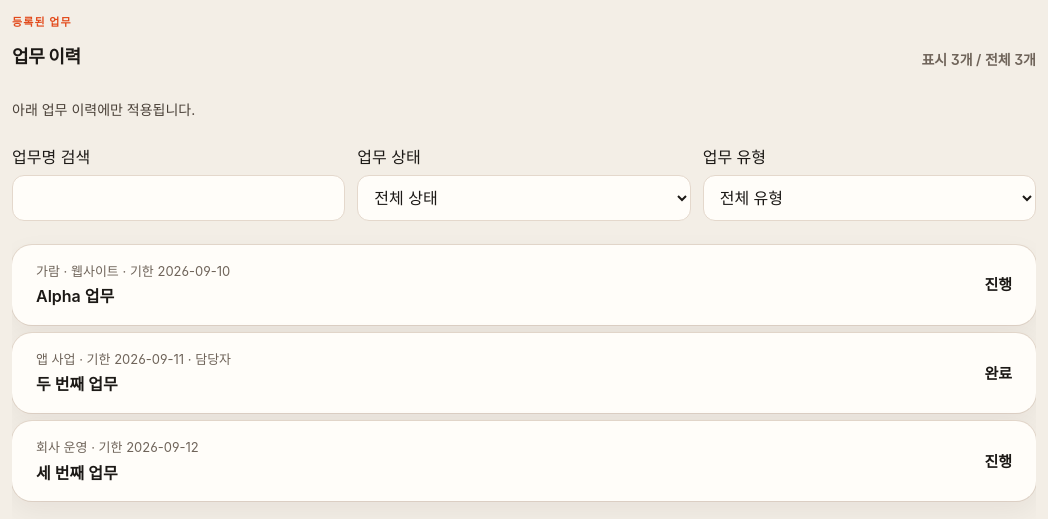
Test case: TaskList › resets all filters
Step 1. Type "없는" into the search field labelled "업무명 검색" → point(179, 198), box [12,175,345,221]
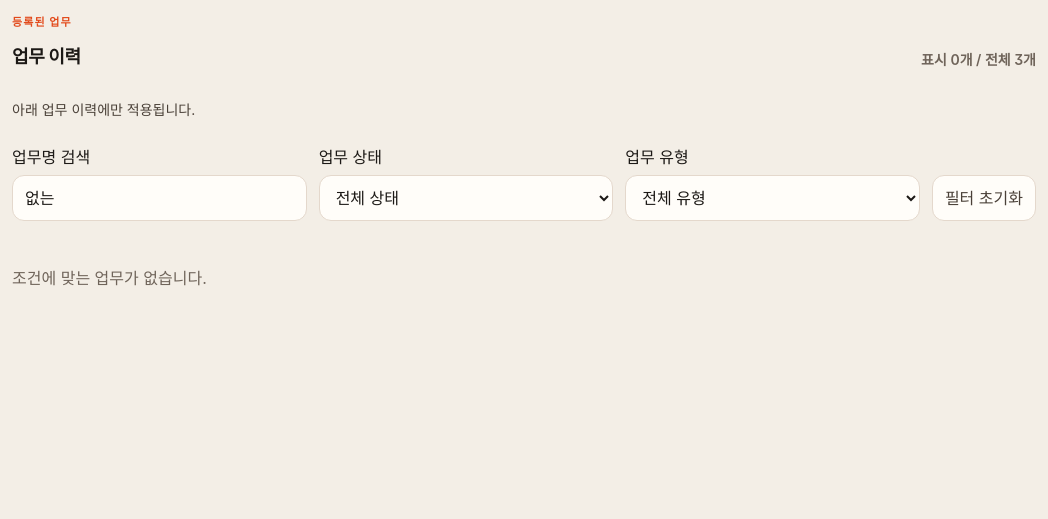
Step 2. Select "완료" in the dropdown labelled "업무 상태" → point(466, 198), box [319,175,613,221]
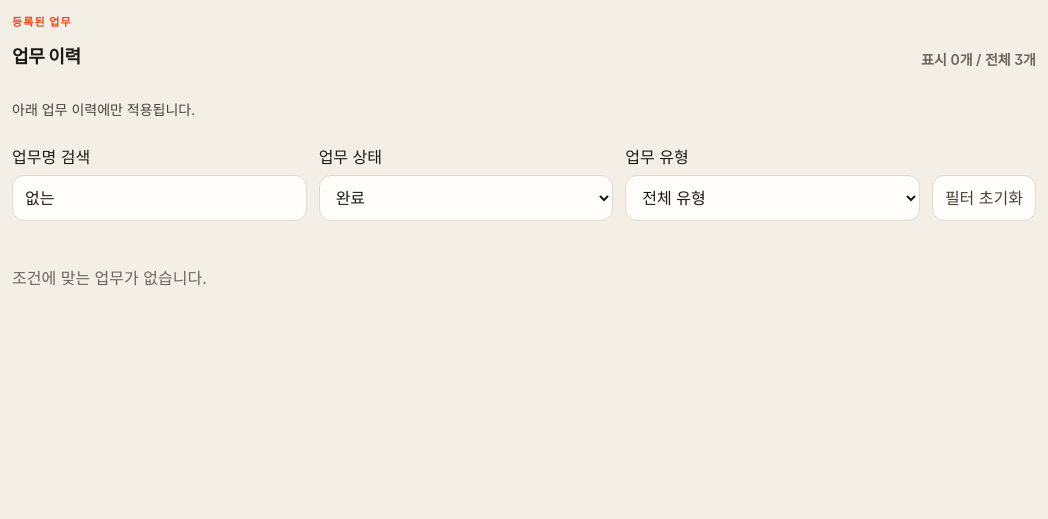
Step 3. Select "자체 사업" in the dropdown labelled "업무 유형" → point(773, 198), box [625,175,920,221]
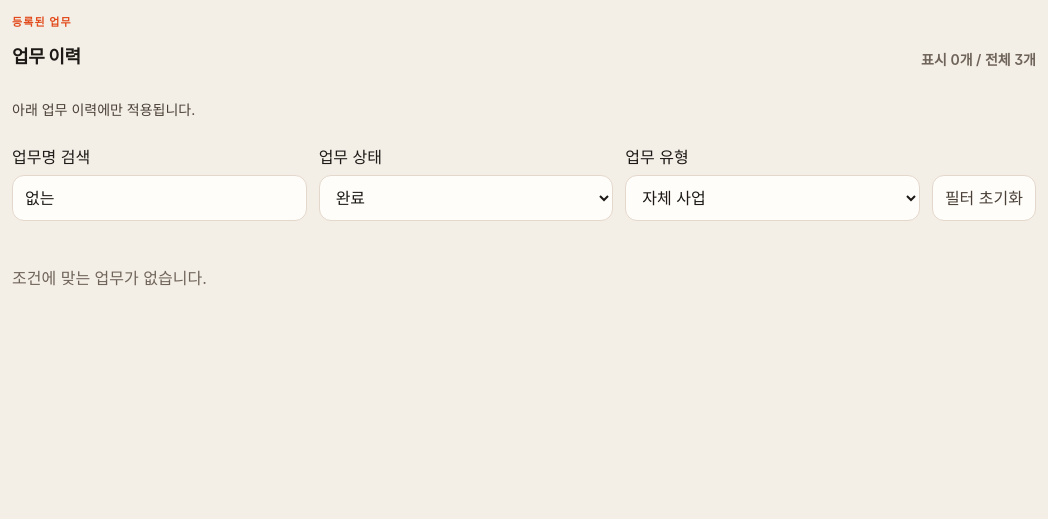
Step 4. Click the button "필터 초기화" → point(984, 198), box [932,175,1036,221]
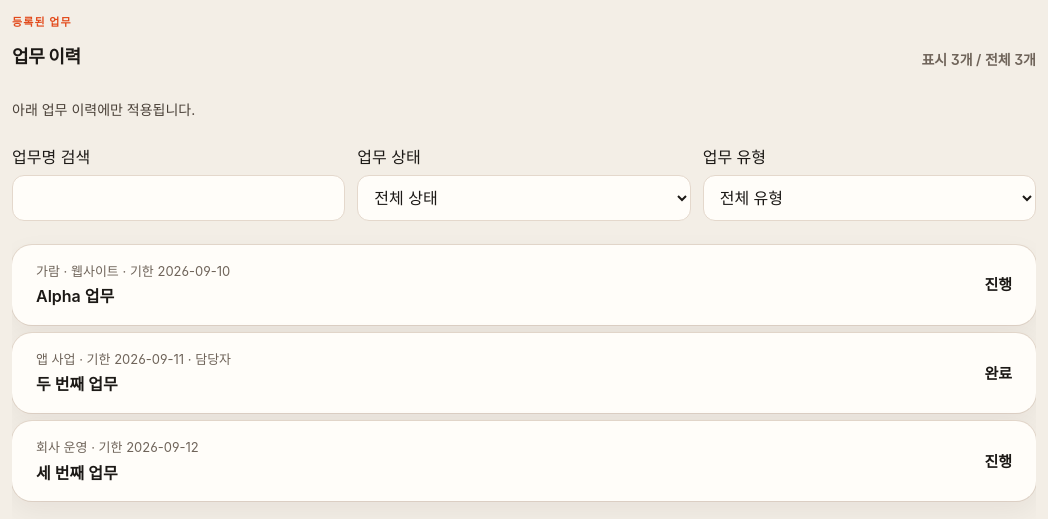
Check: the search field labelled "업무명 검색" is empty, box [12,175,345,221]
Check: the number of links is 3, box [12,245,1036,325]; [12,333,1036,413]; [12,421,1036,501]
